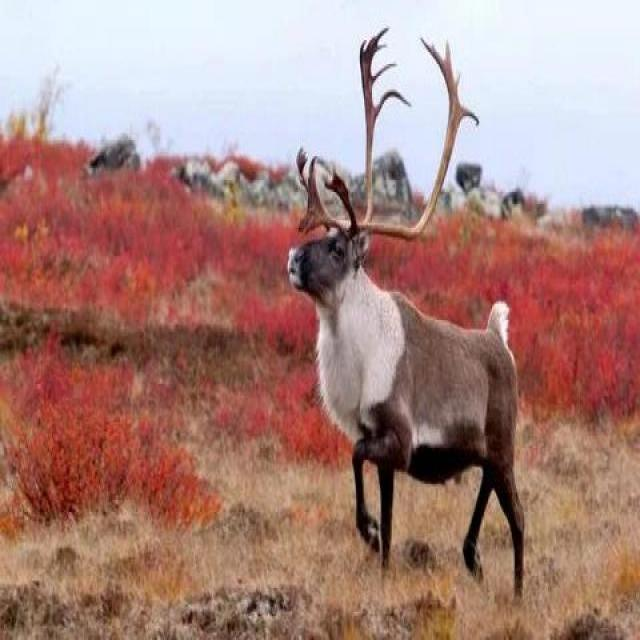deer: (270, 121, 530, 570)
